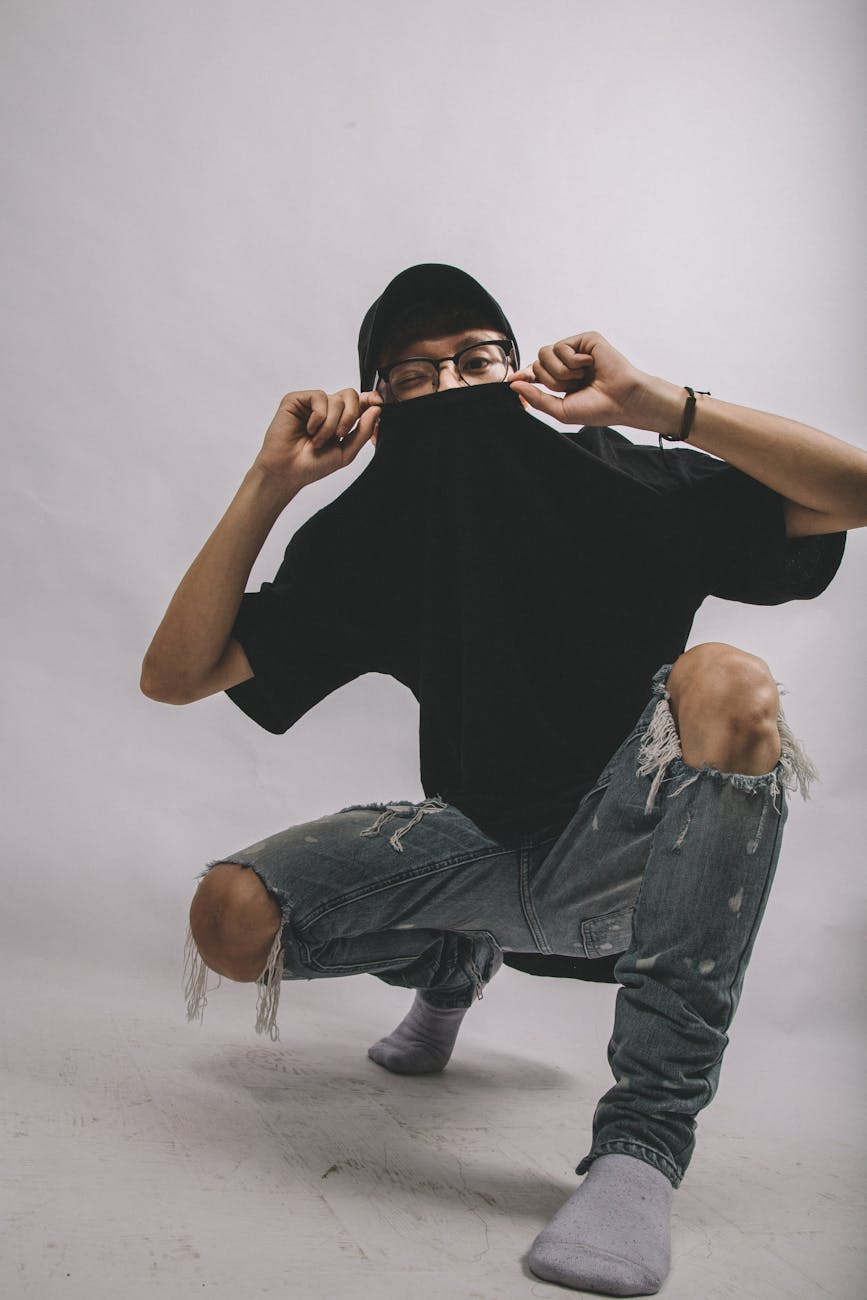ripped_jeans: (180, 667, 816, 1190)
